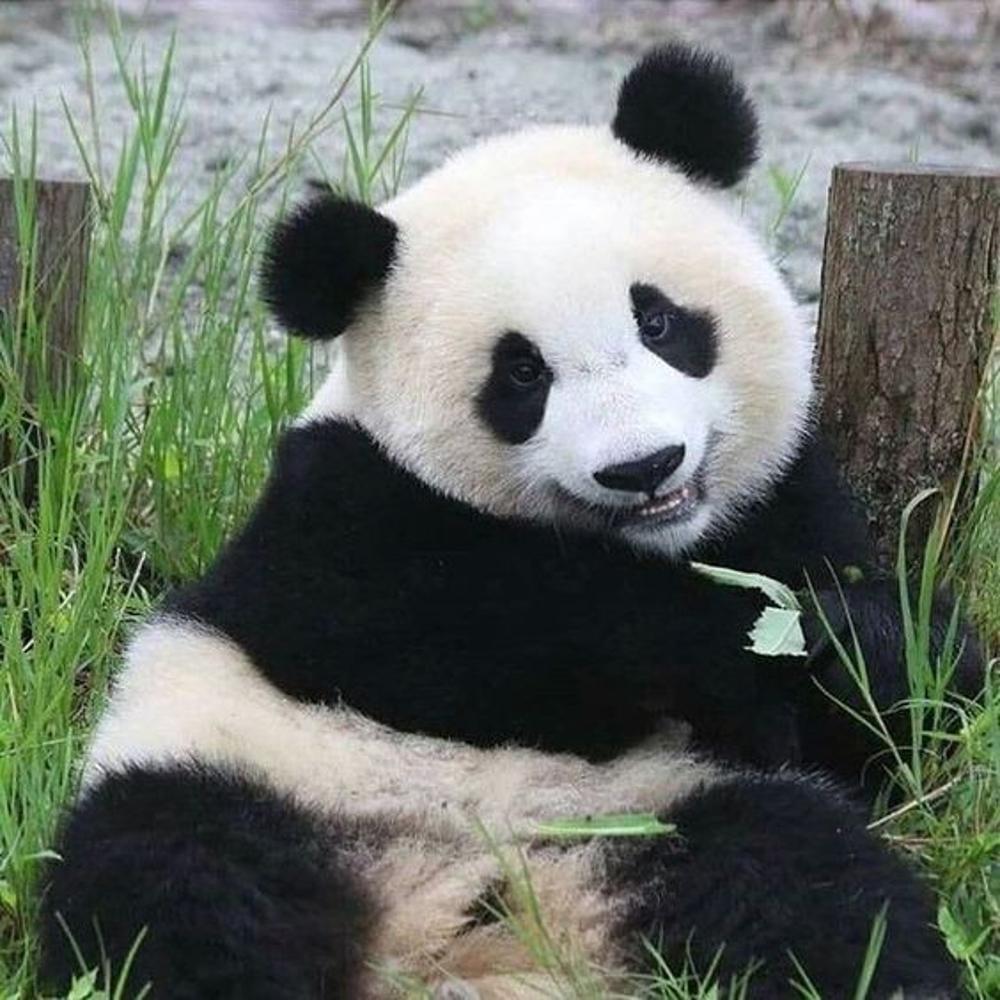panda: (42, 39, 880, 1000)
